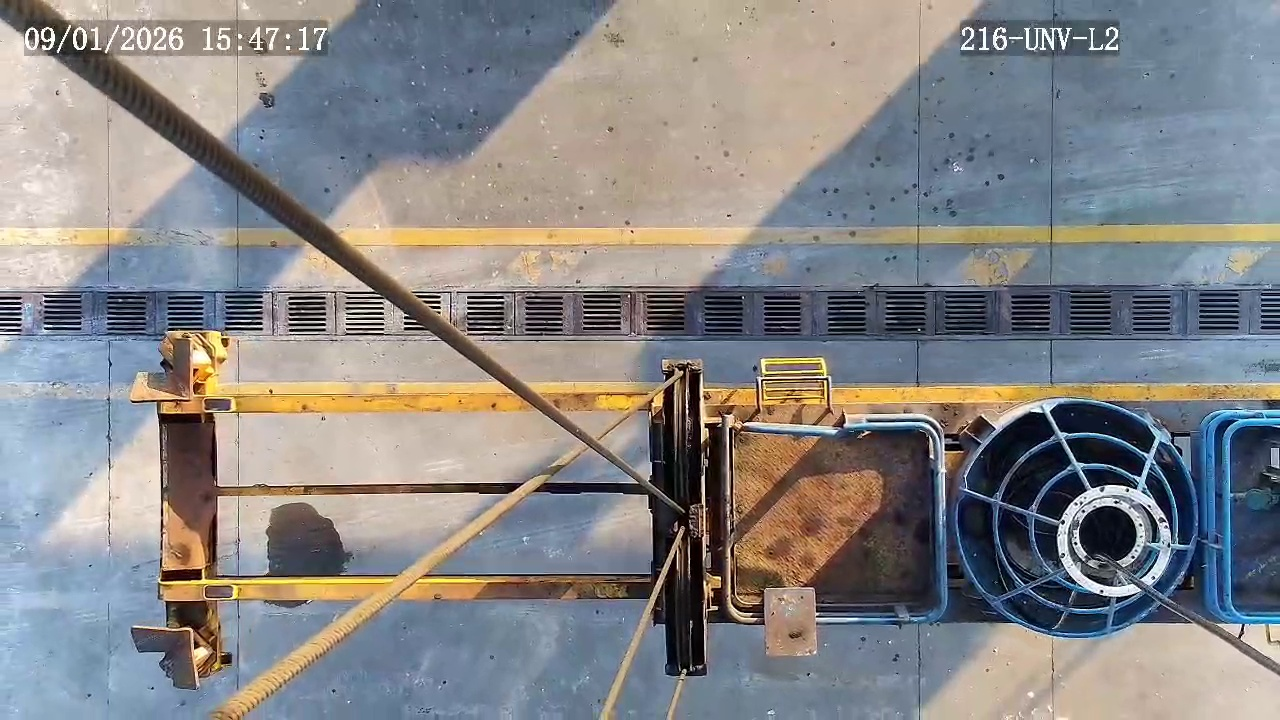left: (954, 401, 1200, 637)
